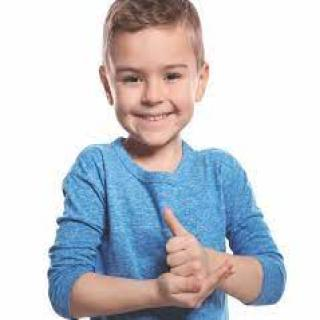Help: (145, 197, 238, 311)
